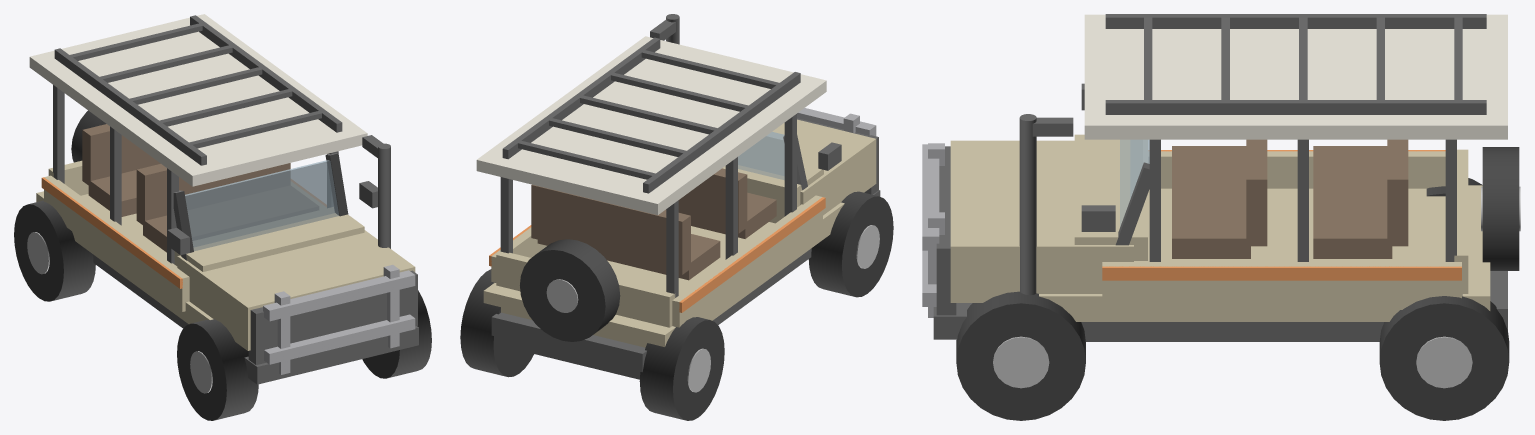
File: landcruiser.glb
3 views of the same model, side by side, from view 1: azimuth 30°, elevation 25°; view 2: azimuth 150°, elevation 25°; view 3: azimuth 270°, elevation 25° (orthographic). The views are drawn at different scales.
Bounding box in the file's own units: 2.2 × 2.33 × 4.24.
